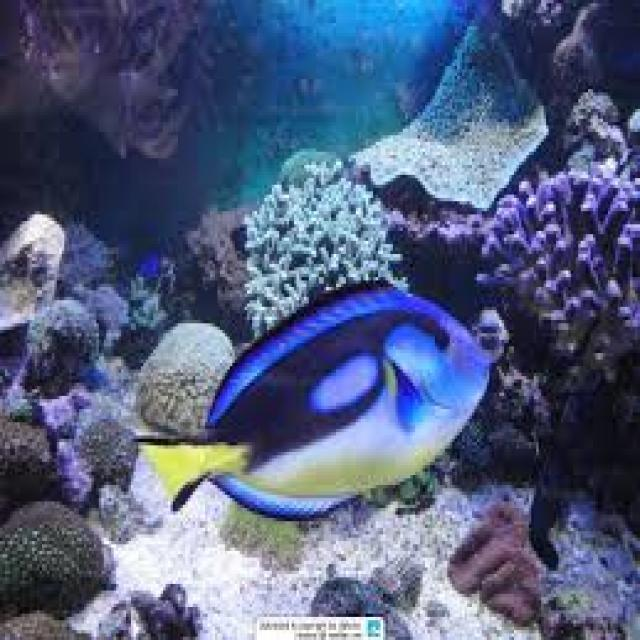BlueTang: (125, 252, 518, 541)
